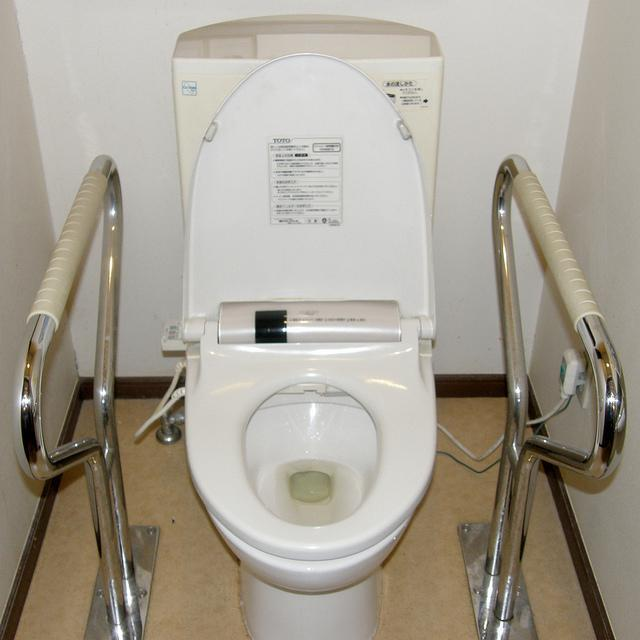Sanitario: (144, 16, 444, 639)
